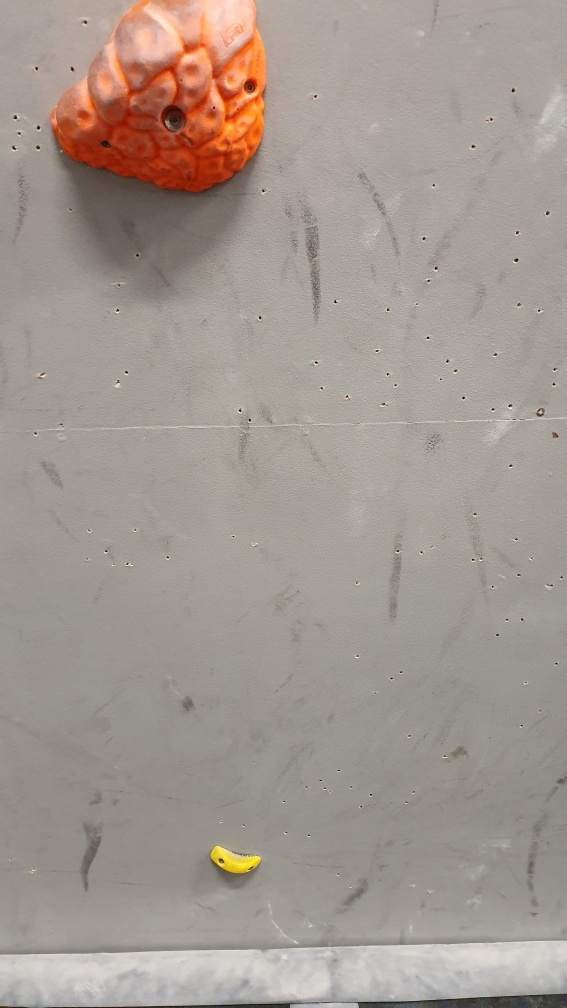Jug: (45, 1, 269, 197)
Pinch: (206, 841, 263, 879)
